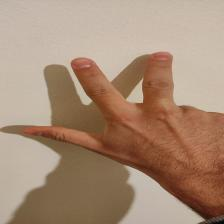three: (14, 53, 210, 173)
